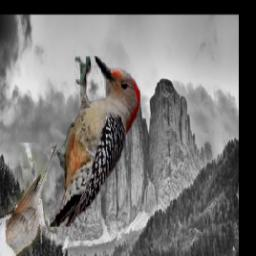Cuckoo: (0, 144, 57, 256)
Woodpecker: (51, 56, 141, 227)
